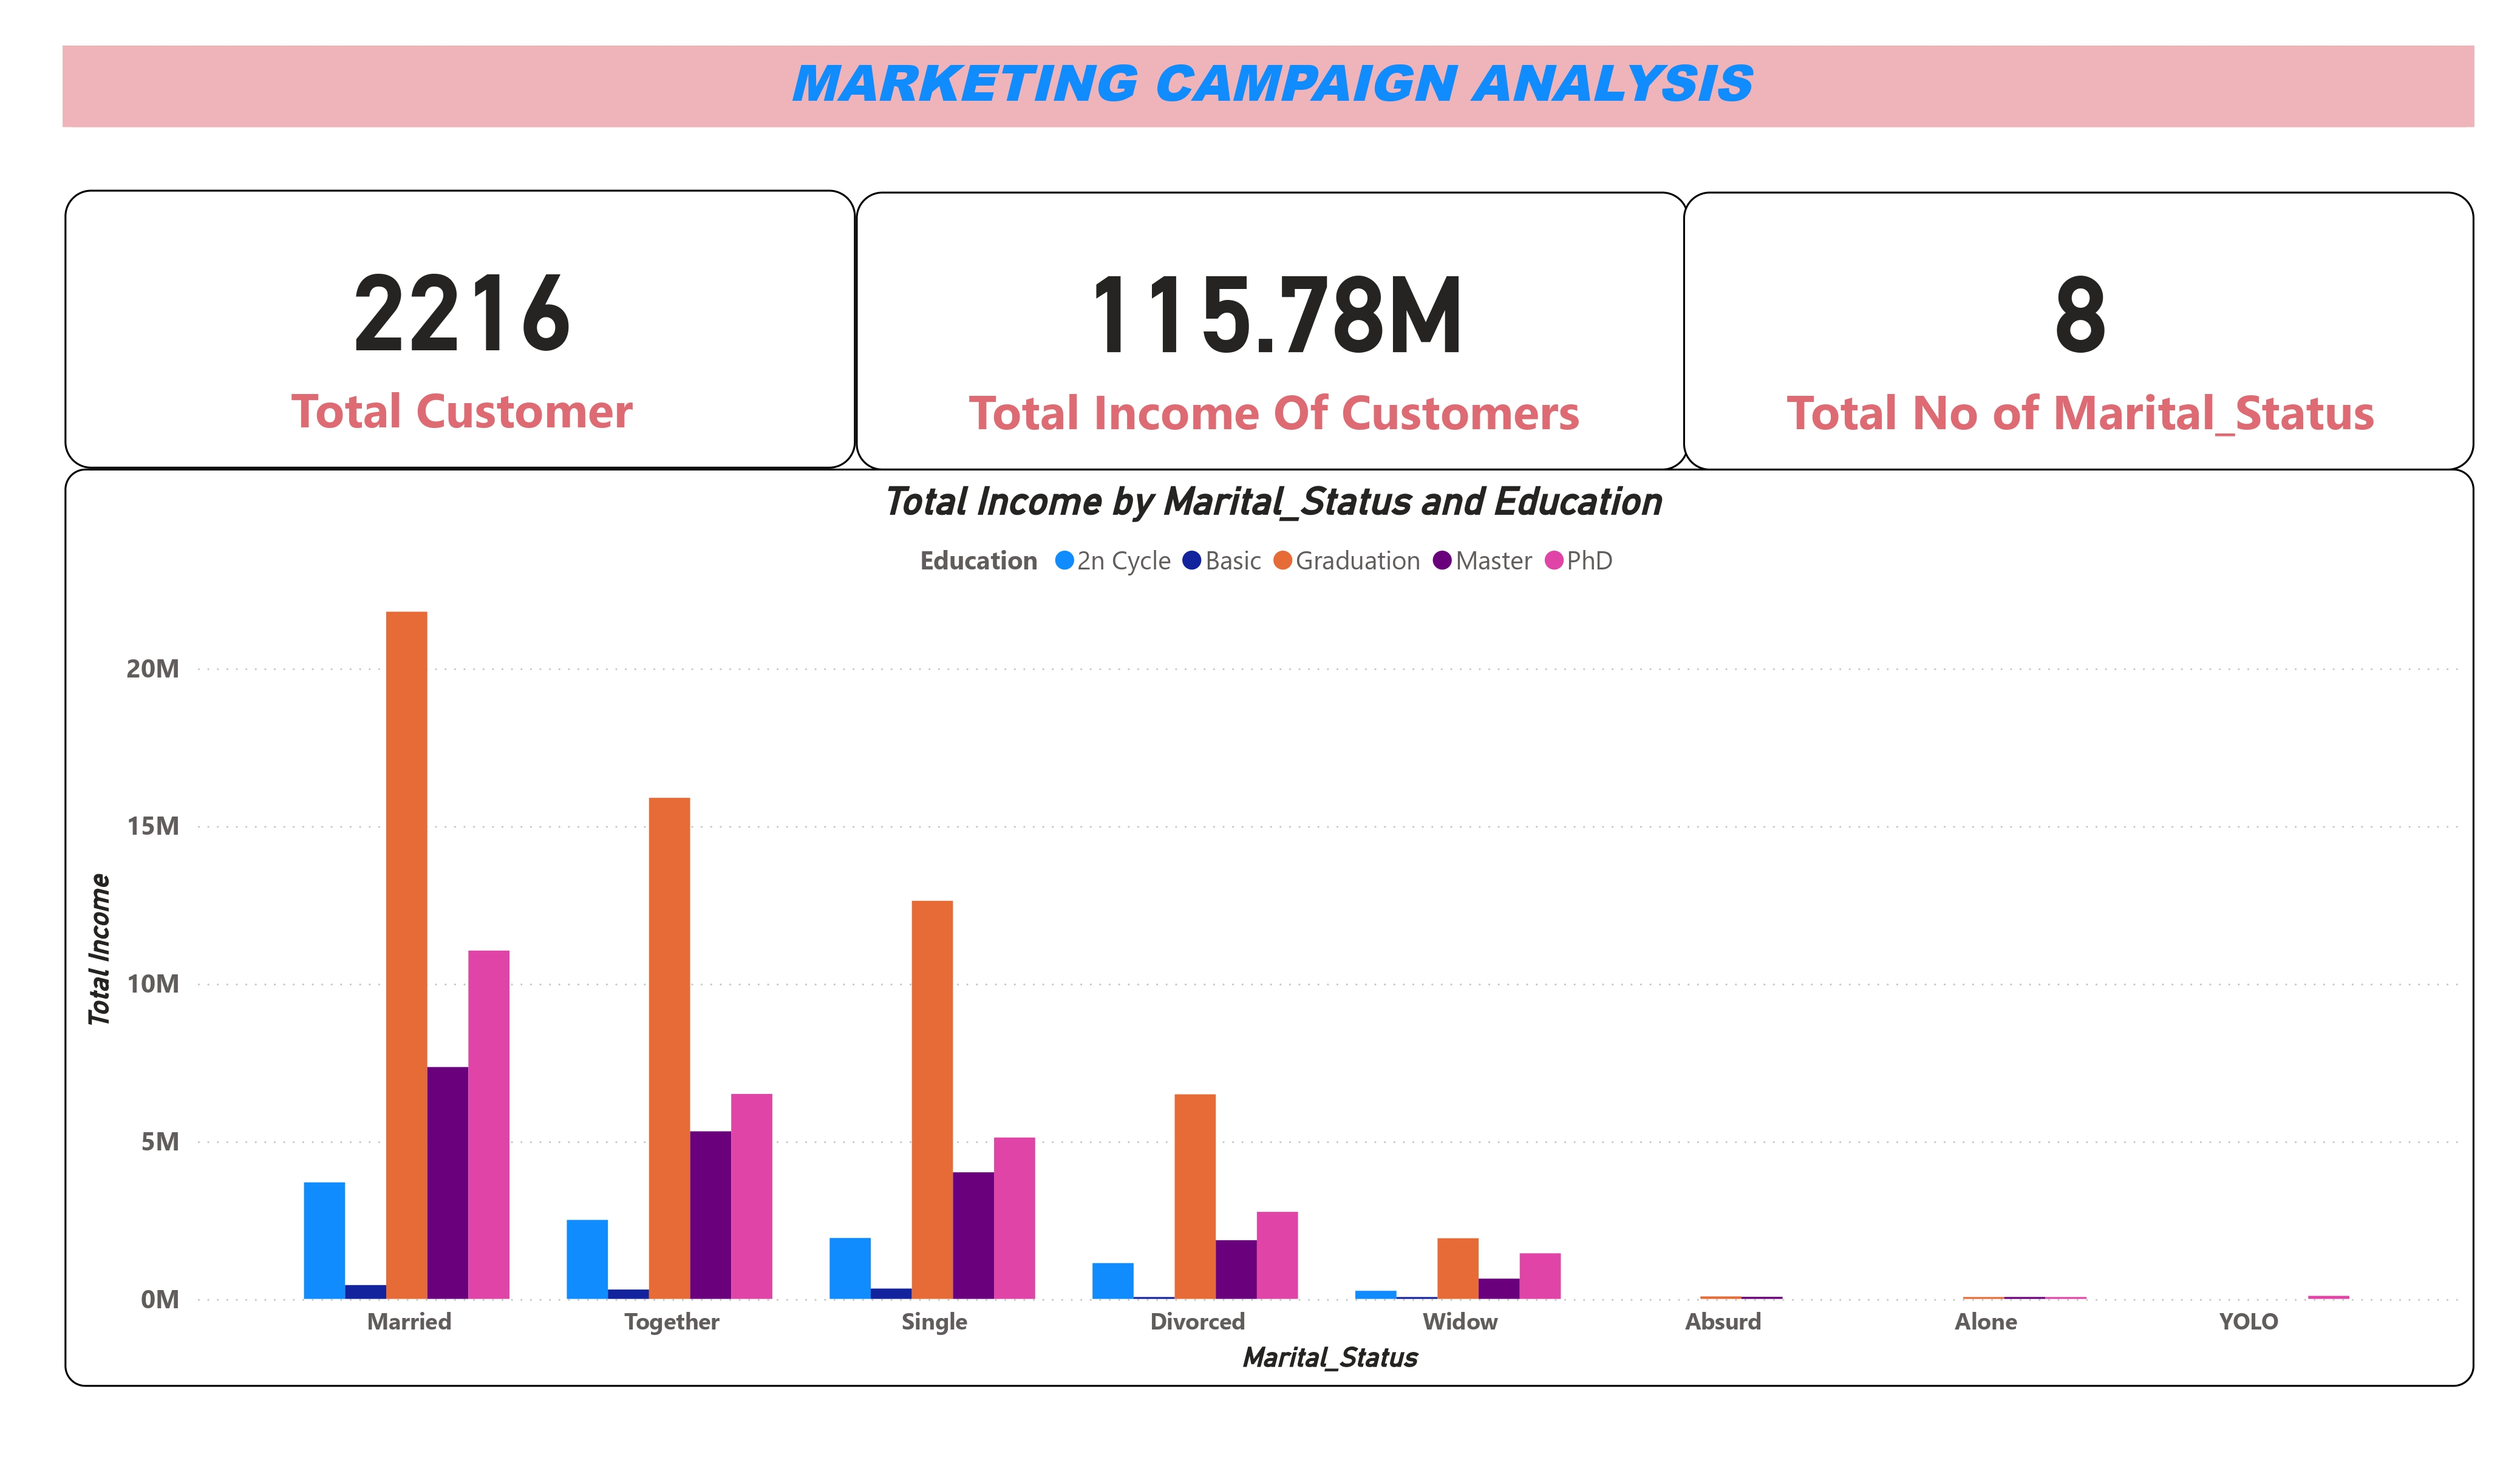

The page's visual inventory and layout, read from the dashboard file:
{"tool":"powerbi","page":{"name":"Page 1","canvas":[1280,720],"ordinal":0},"visuals":[{"type":"textbox","title":"MARKETING  CAMPAIGN  ANALYSIS ","box":[9.5,0,1271.1,93.4],"z":0},{"type":"card","fields":{"Values":["CountNonNull(marketing_campaign_cleaned.ID)"]},"box":[10,75.7,417.1,147.1],"z":1000},{"type":"card","fields":{"Values":["Sum(marketing_campaign_cleaned.Income)"]},"box":[427.1,77.1,438.6,147.1],"z":2000},{"type":"lineClusteredColumnComboChart","fields":{"Category":["marketing_campaign_cleaned.Marital_Status"],"Y":["Sum(marketing_campaign_cleaned.Income)"],"Series":["marketing_campaign_cleaned.Education"]},"box":[10,222.9,1270,484.3],"z":3000},{"type":"card","fields":{"Values":["Count(marketing_campaign_cleaned.Marital_Status)"]},"box":[862.9,77.1,417.1,147.1],"z":4000}]}

Visuals, with their boxes in screenshot pixels (x1, y1, x2, y2):
"MARKETING  CAMPAIGN  ANALYSIS " textbox: box(64, 46, 2474, 223)
card - CountNonNull(marketing_campaign_cleaned.ID): box(64, 189, 856, 468)
card - Sum(marketing_campaign_cleaned.Income): box(856, 192, 1688, 471)
lineClusteredColumnComboChart - marketing_campaign_cleaned.Marital_Status x Sum(marketing_campaign_cleaned.Income): box(64, 469, 2474, 1387)
card - Count(marketing_campaign_cleaned.Marital_Status): box(1683, 192, 2474, 471)
